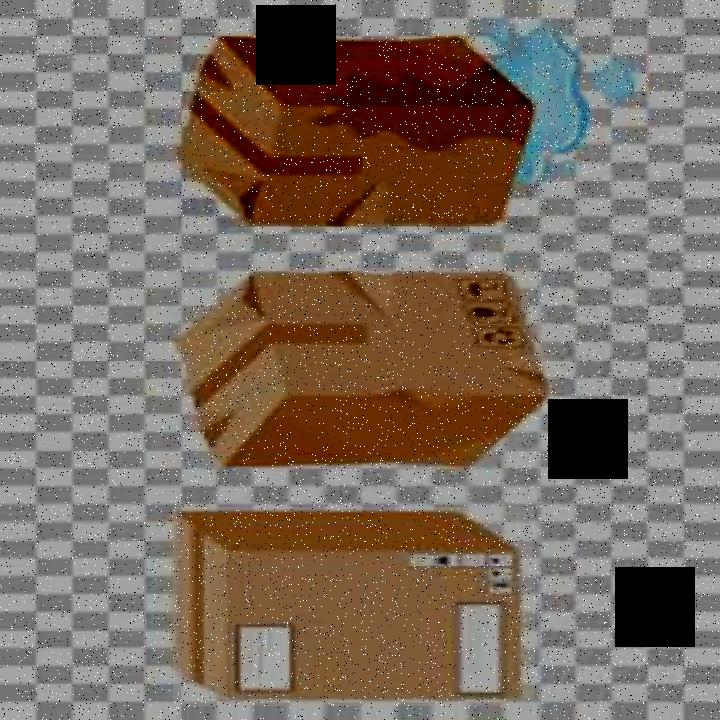box: (178, 268, 552, 468), (173, 507, 535, 706), (178, 33, 532, 227)
